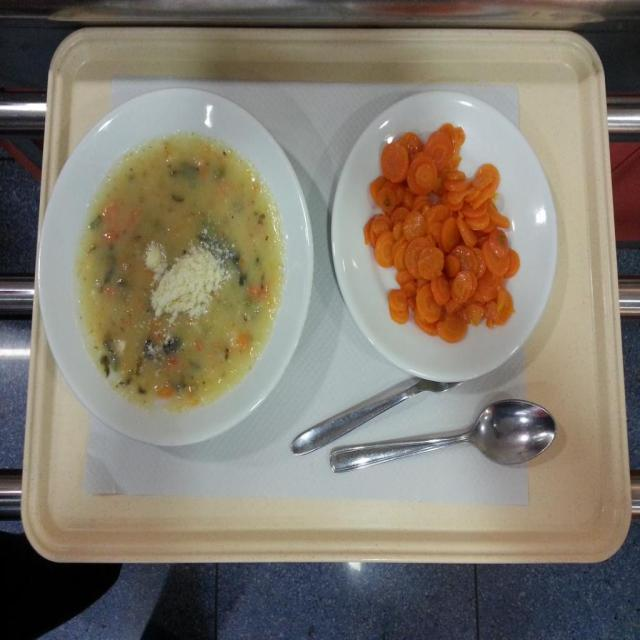plate: (42, 90, 312, 442), (332, 90, 560, 380)
